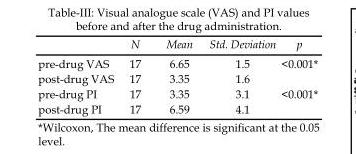table: (37, 36, 317, 115)
table column: (37, 36, 120, 115), (200, 36, 277, 115), (152, 36, 200, 115), (277, 36, 317, 115), (120, 36, 152, 115)
table column header: (37, 36, 317, 53)
table row: (37, 36, 317, 53), (37, 53, 317, 70), (37, 70, 317, 86), (37, 86, 317, 101), (37, 101, 317, 115)
table spanning cell: (277, 53, 317, 86), (277, 86, 317, 115)
